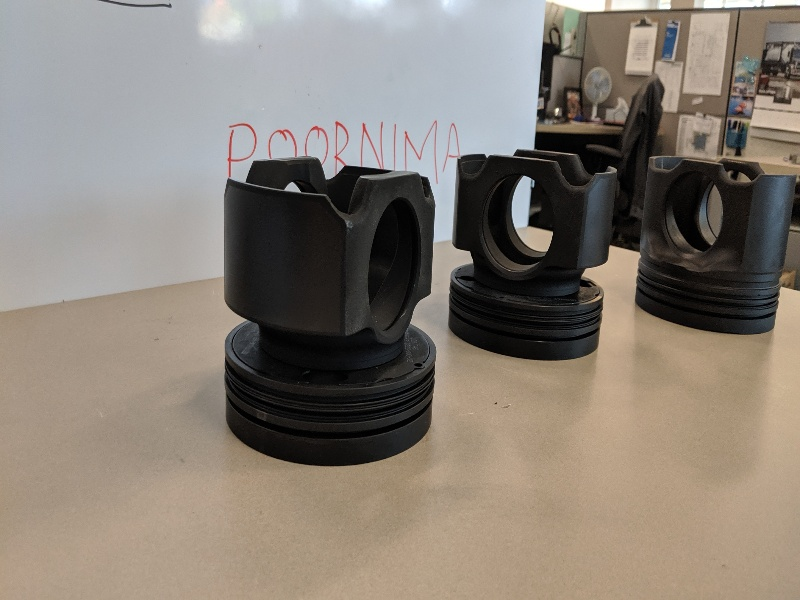piston: (215, 151, 443, 470), (450, 142, 623, 364), (632, 142, 797, 340)
